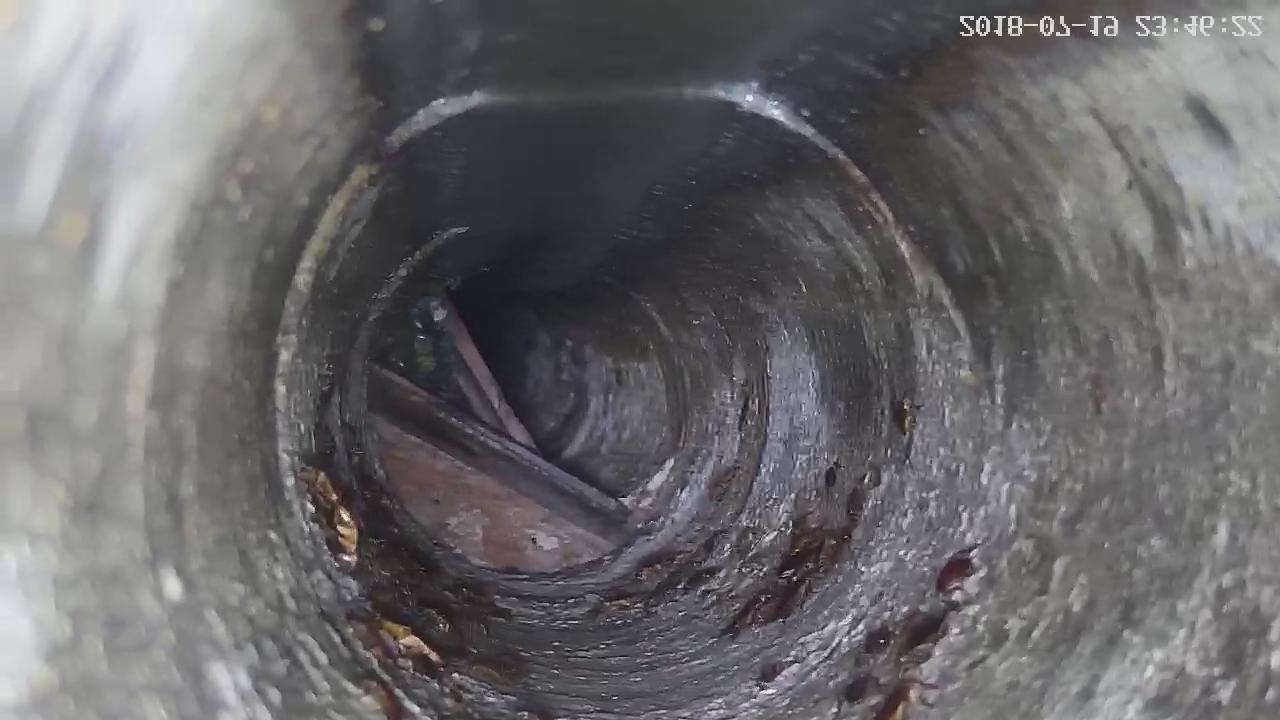YWCR: (366, 299, 627, 573)
